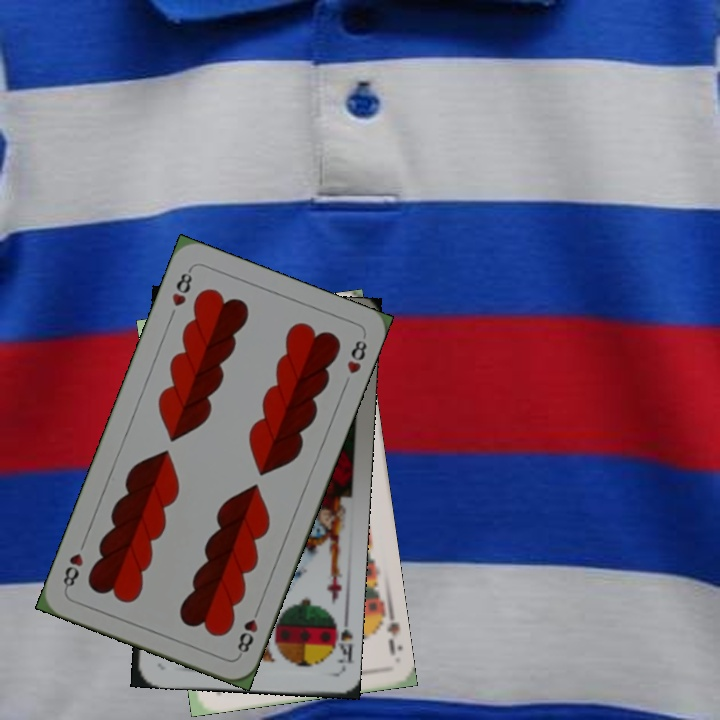H8: (233, 602, 263, 659), (167, 265, 195, 309)
S9: (373, 602, 404, 658)
SK: (326, 612, 354, 666)
